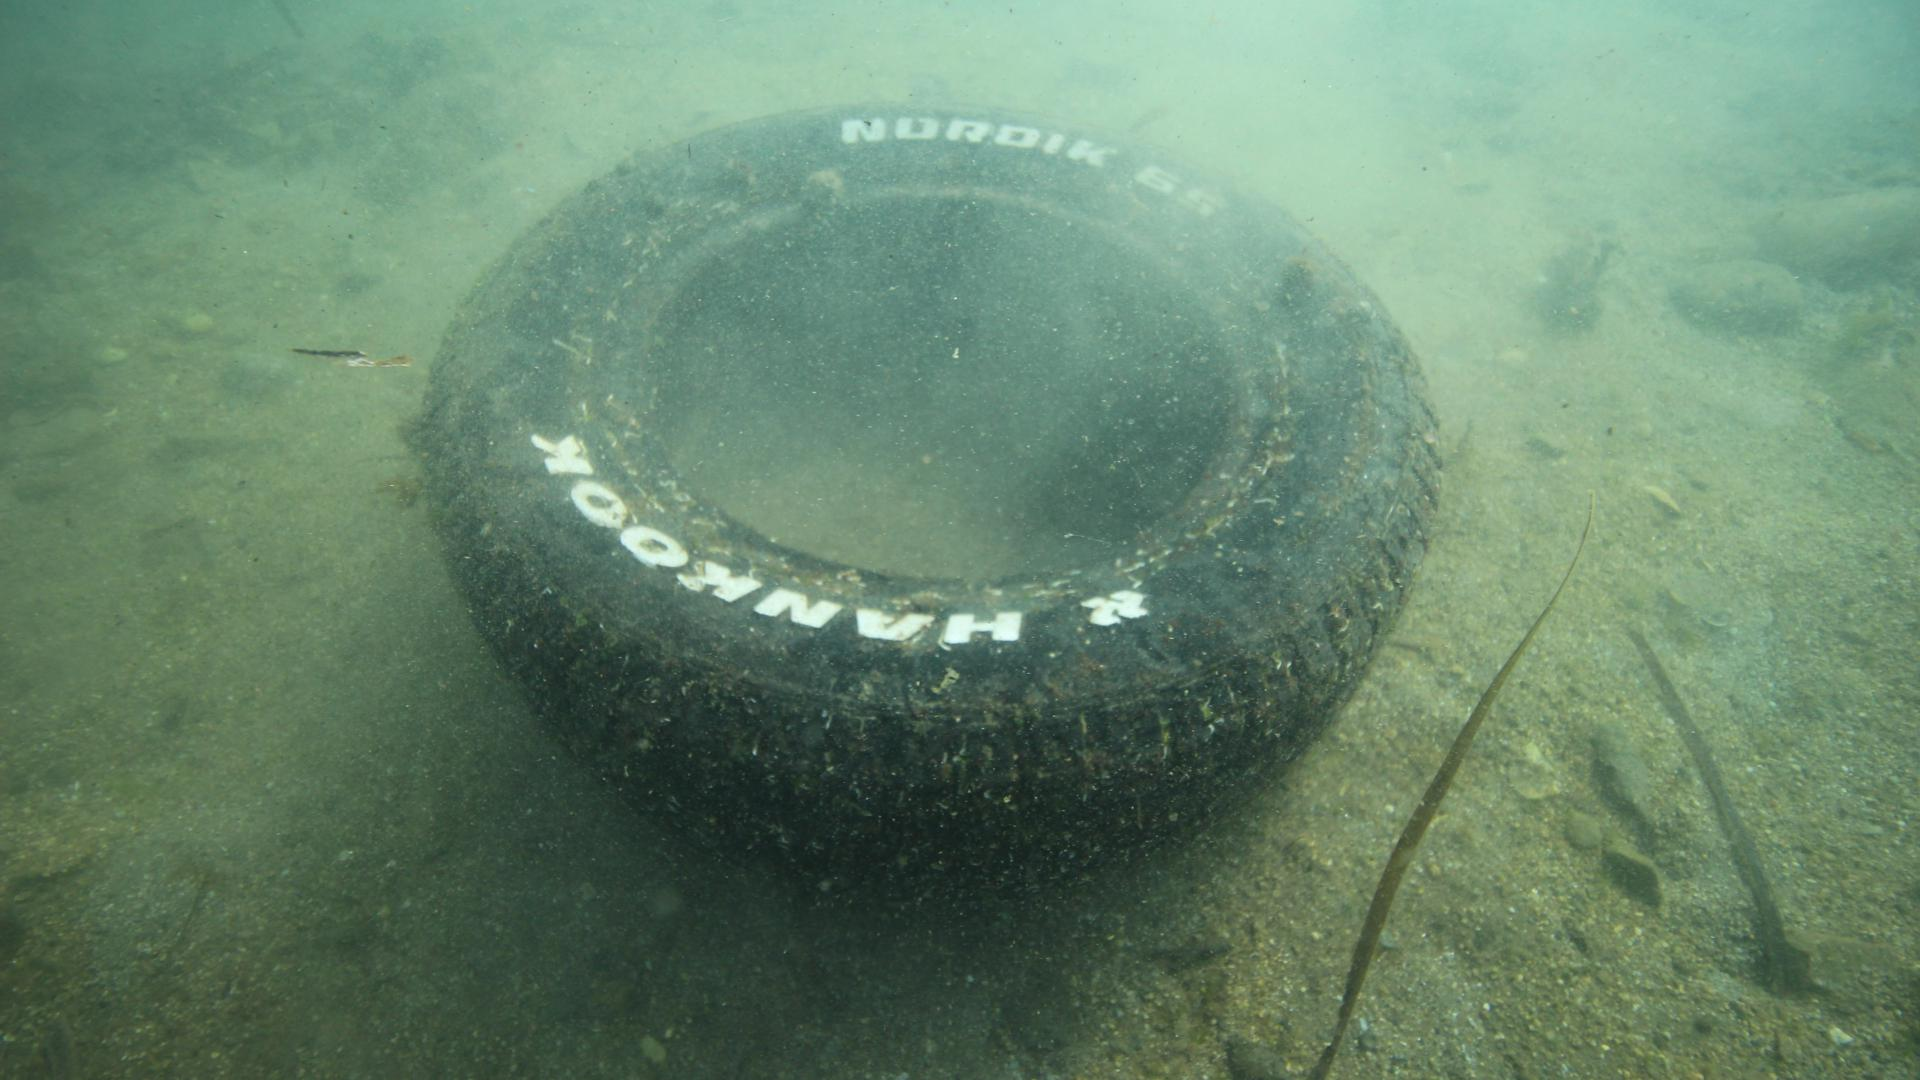tire: (433, 98, 1440, 884)
